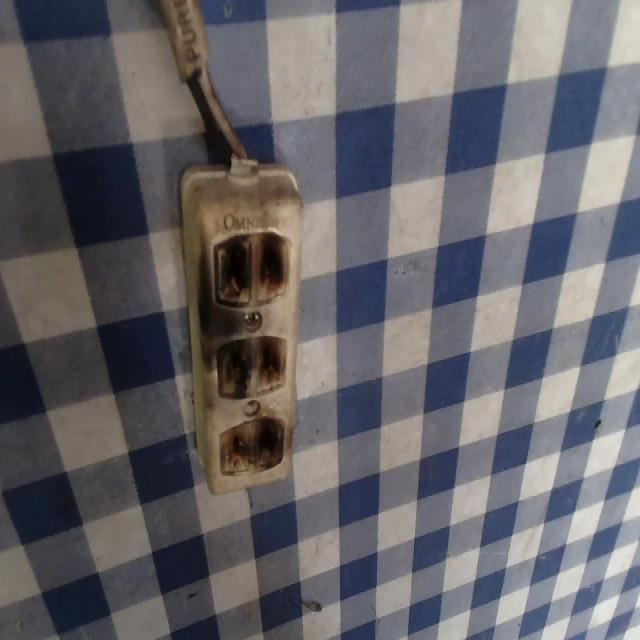-: (210, 228, 290, 309), (213, 335, 285, 400), (217, 413, 286, 480)
